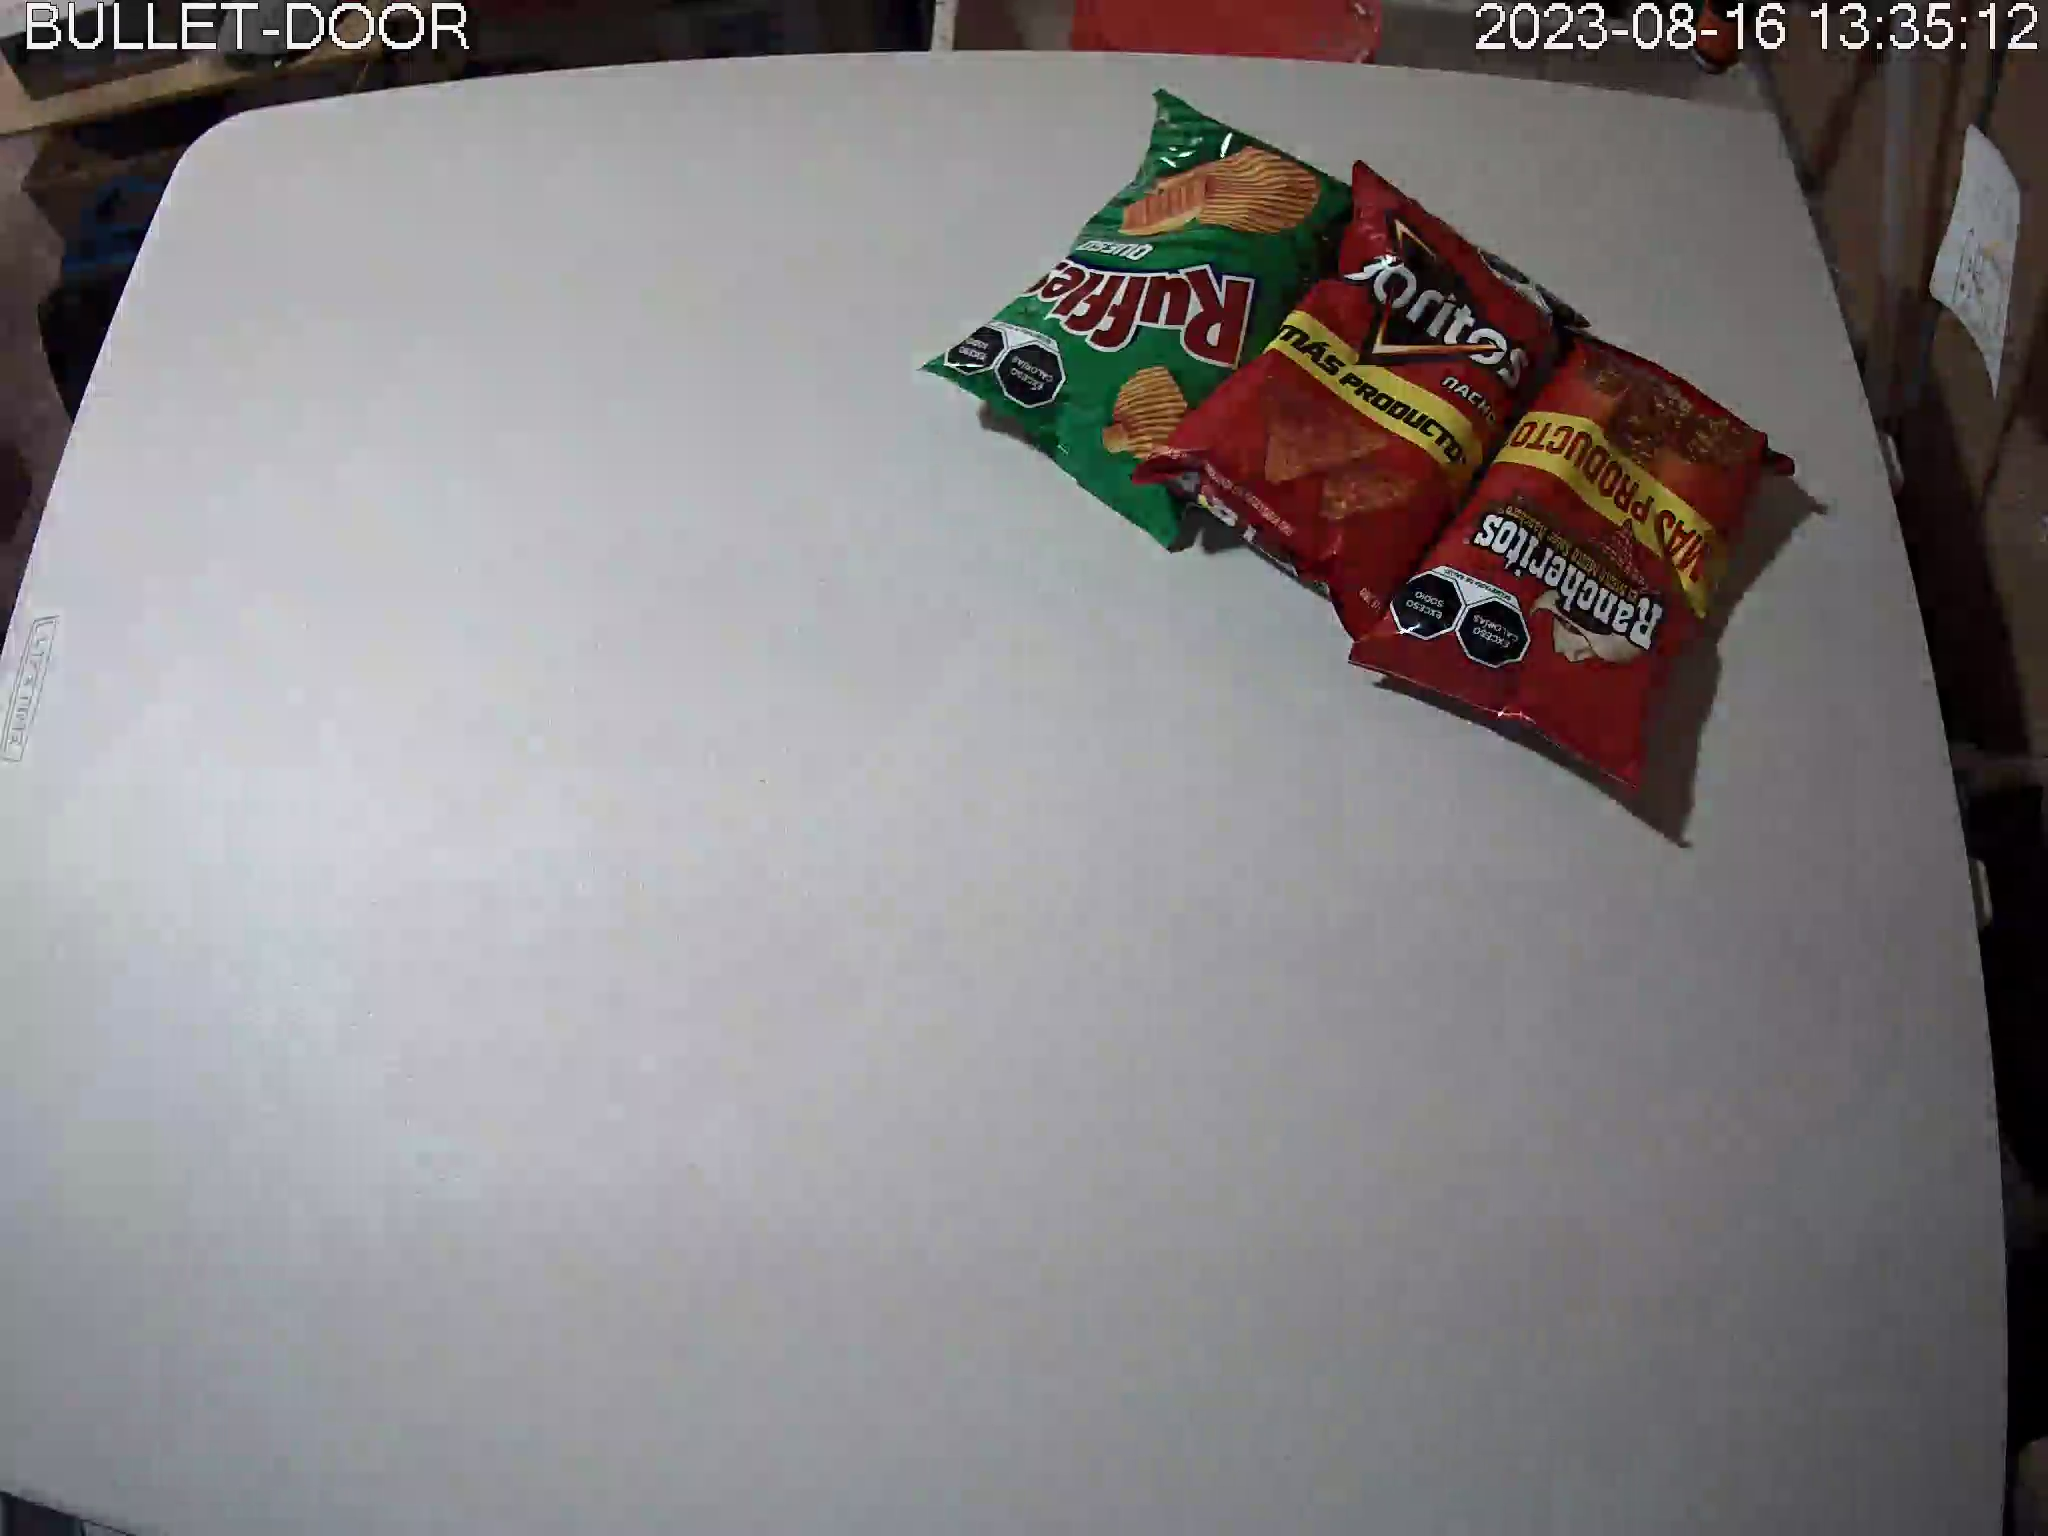DoritosN_61_F: (1132, 160, 1598, 649)
Rancheritos_58_F: (1343, 328, 1796, 812)
RufflesQ_48_F: (916, 90, 1390, 557)
